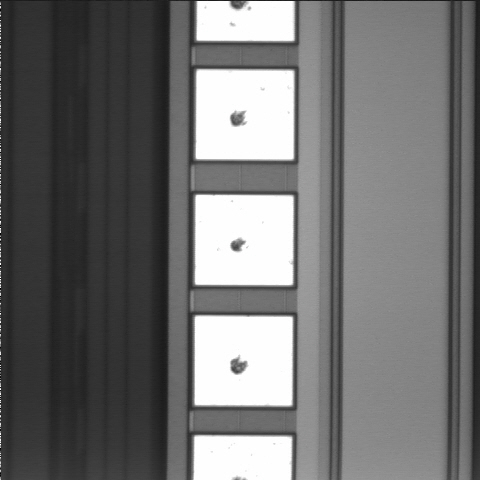pad: (196, 69, 294, 160), (195, 195, 293, 285), (195, 316, 293, 406)
